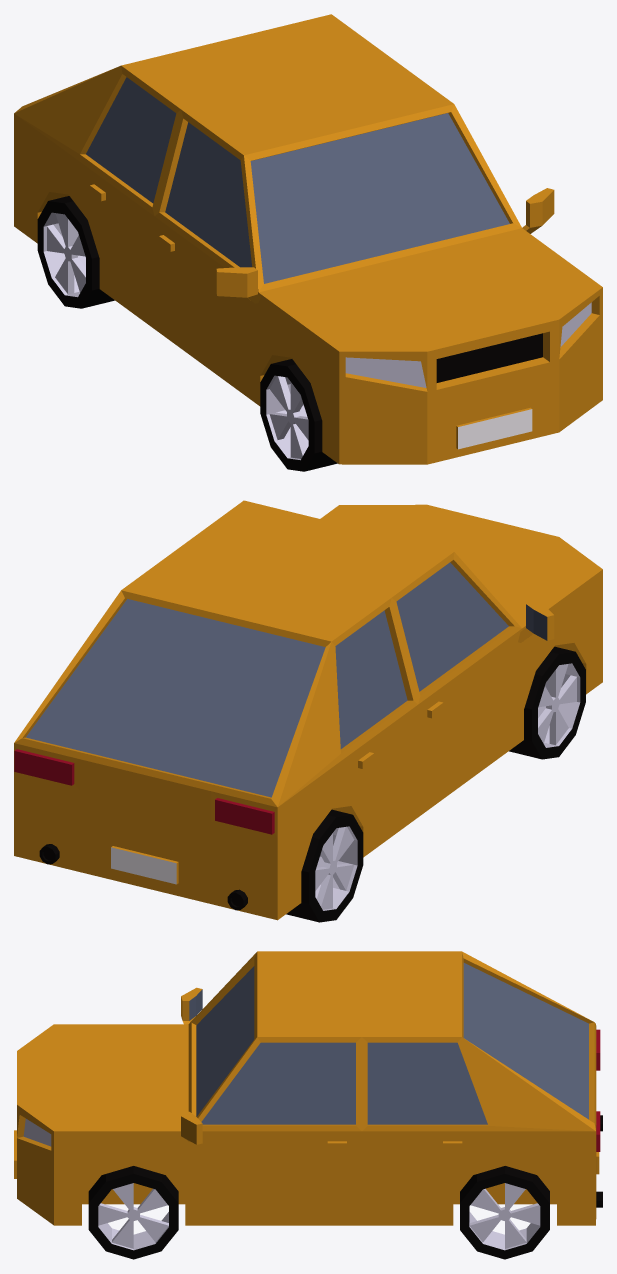
The model's file is Hatchback.glb.
The picture shows the model from 3 angles, top to bottom: view 1: azimuth 30°, elevation 25°; view 2: azimuth 150°, elevation 25°; view 3: azimuth 270°, elevation 25°; orthographic projection. The views are drawn at different scales.
Visible parts, largest first — view 1: Hatchback, Hatchback wheel front right, Hatchback wheel rear right; view 2: Hatchback, Hatchback wheel rear right, Hatchback wheel front right; view 3: Hatchback, Hatchback wheel front left, Hatchback wheel rear left.
Part boxes in pixels (<box>): Hatchback: <box>14,14,602,464</box>; Hatchback wheel front right: <box>260,359,337,471</box>; Hatchback wheel rear right: <box>37,196,114,308</box>; Hatchback: <box>14,500,602,920</box>; Hatchback wheel rear right: <box>286,809,363,922</box>; Hatchback wheel front right: <box>509,646,585,759</box>; Hatchback: <box>14,951,602,1225</box>; Hatchback wheel front left: <box>88,1166,178,1259</box>; Hatchback wheel rear left: <box>460,1166,549,1259</box>.
Bounding box in the file's own units: 281 × 201 × 511.
